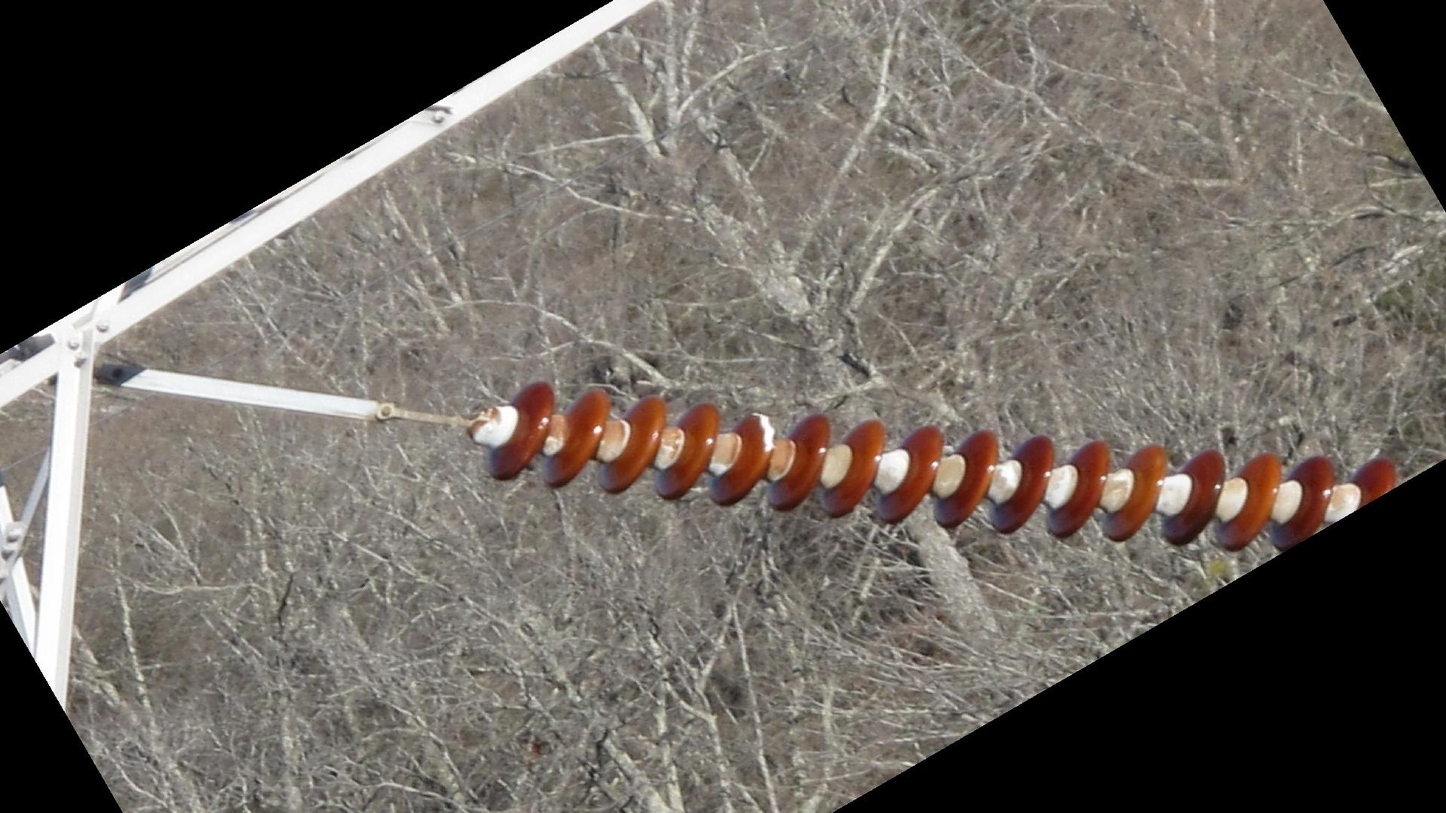insulator: (477, 378, 1402, 563)
insulator_breakage: (742, 406, 780, 456)
